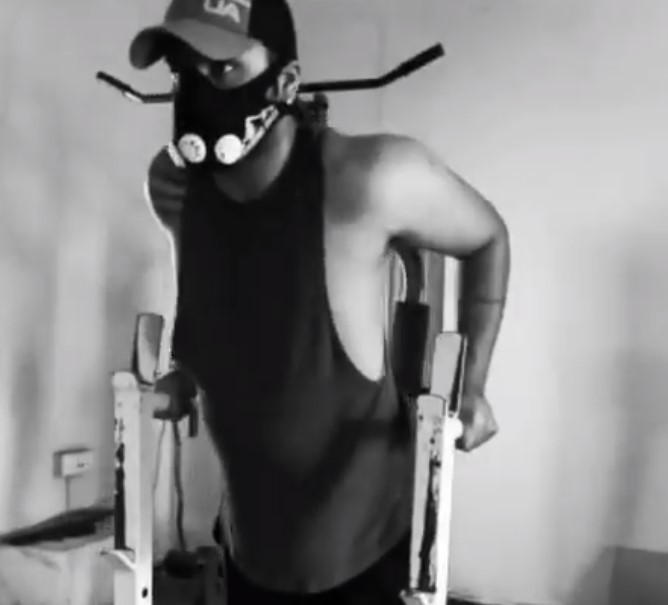face_with_mask: (155, 31, 301, 170)
